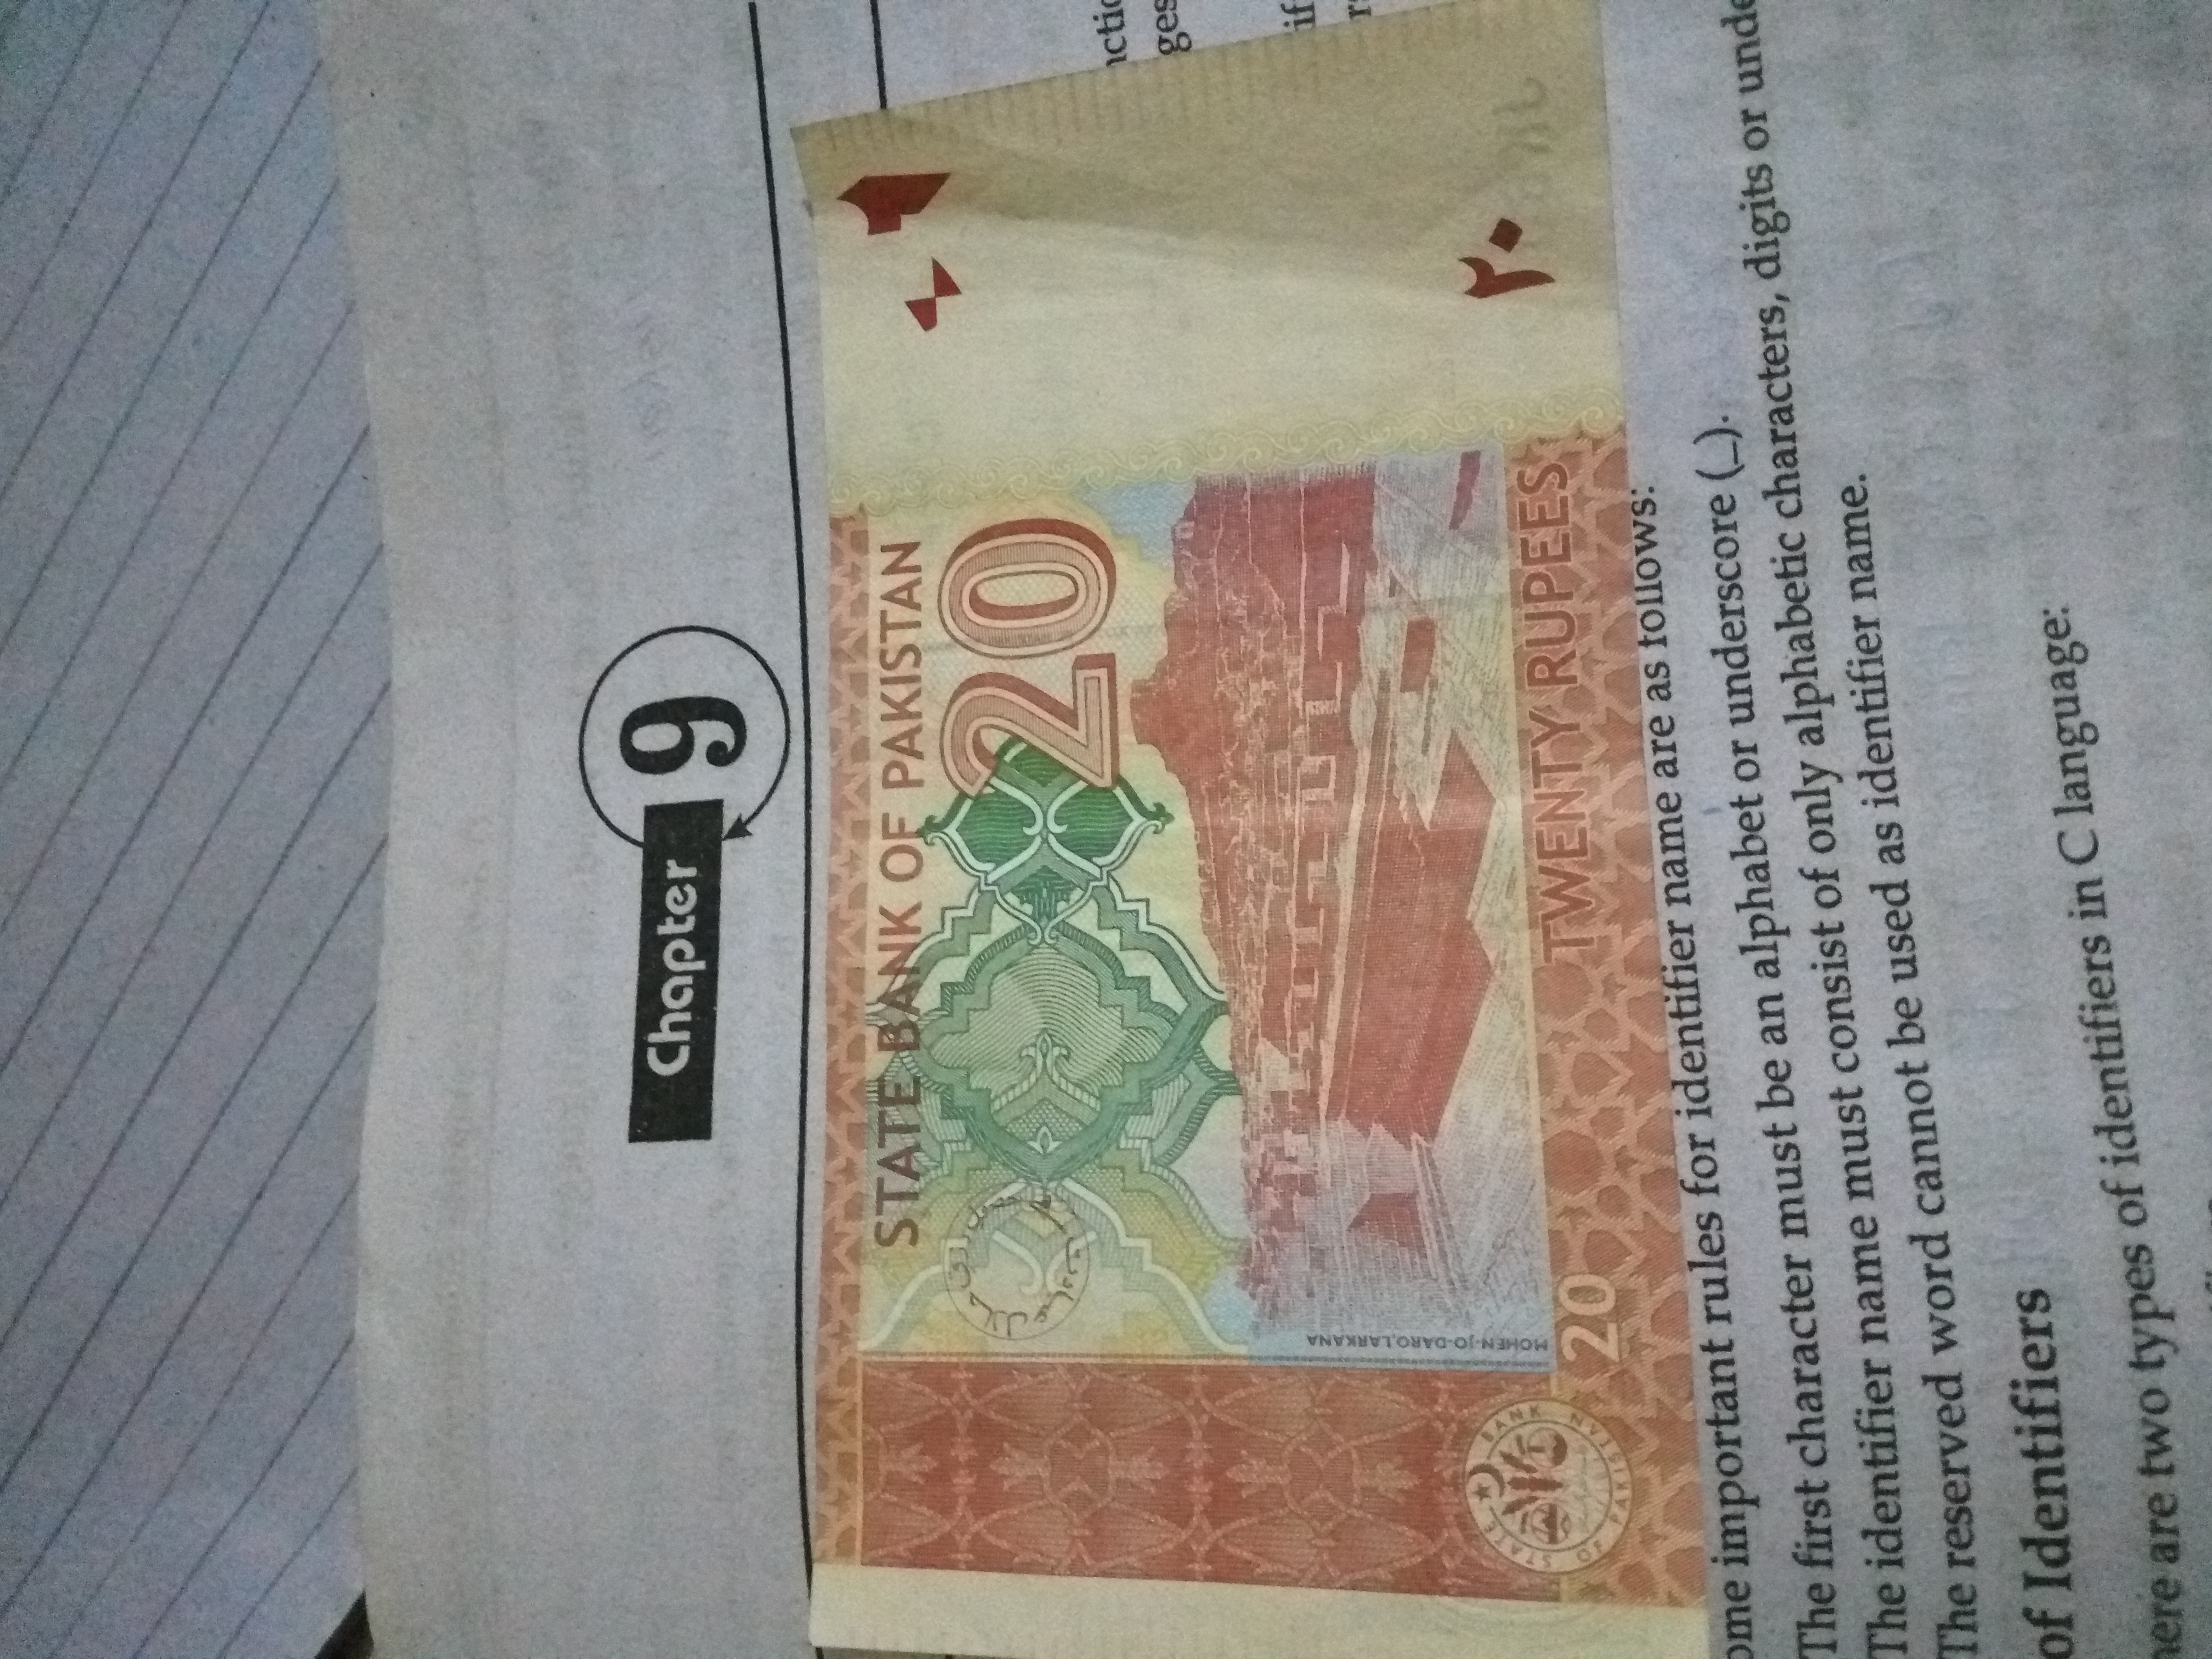20 rupee: (759, 89, 1724, 1610)
